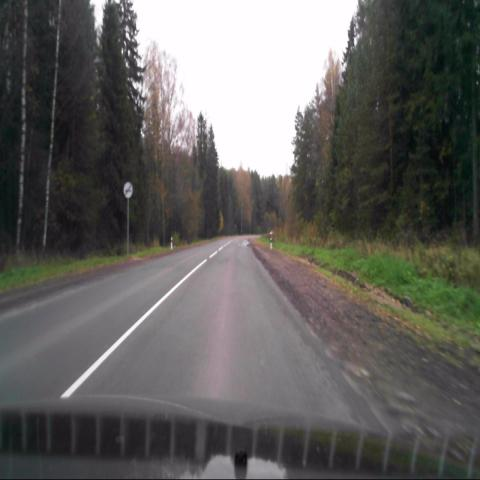3_21: (122, 181, 134, 200)
